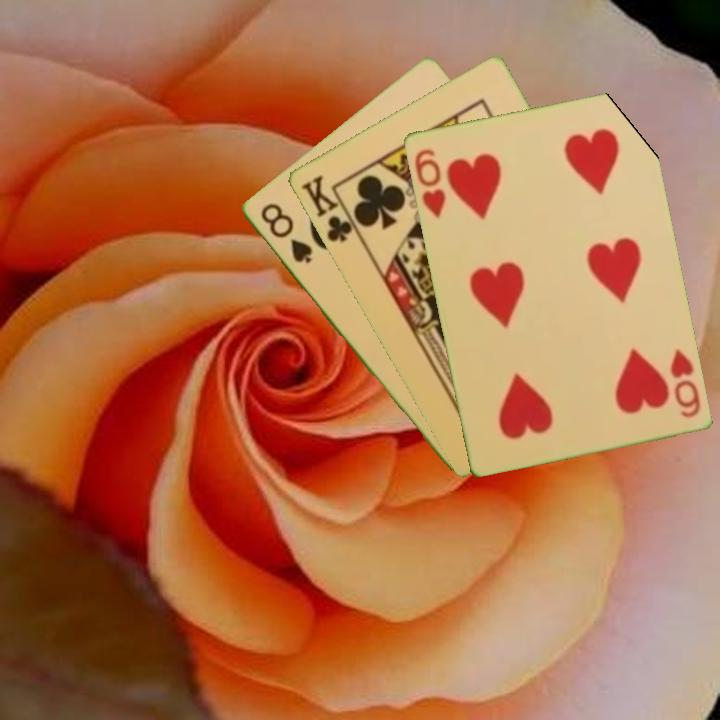6h: (410, 145, 448, 222), (666, 344, 703, 421)
8s: (256, 199, 315, 267)
Kc: (297, 171, 362, 245)
